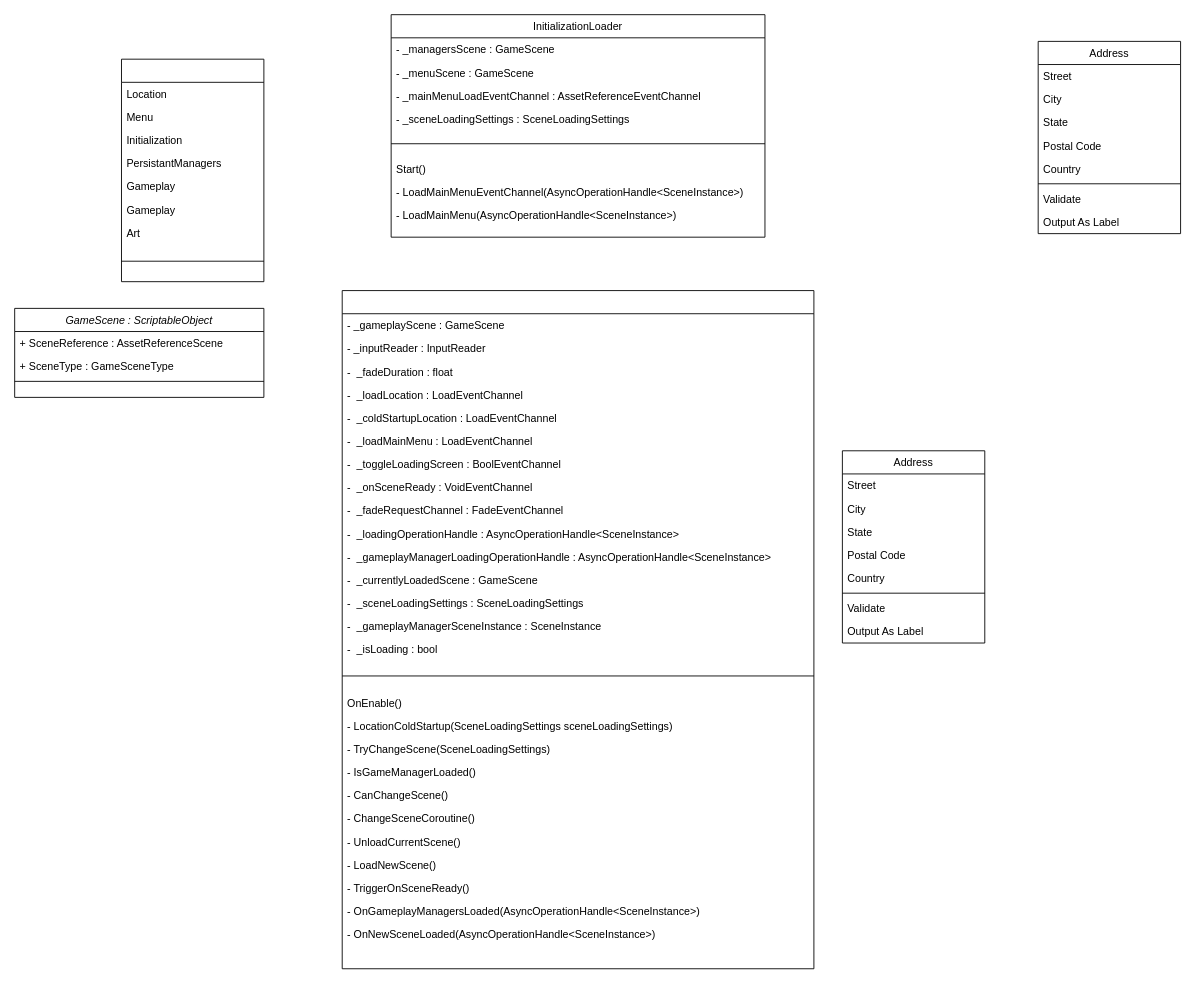
Some shapes in this 1195 by 983 pixel diagram are drawn without their labels. Each missing label, with the box of its shape:
enum GameSceneType: (121, 58, 264, 282)
SceneLoader: (341, 290, 814, 969)
